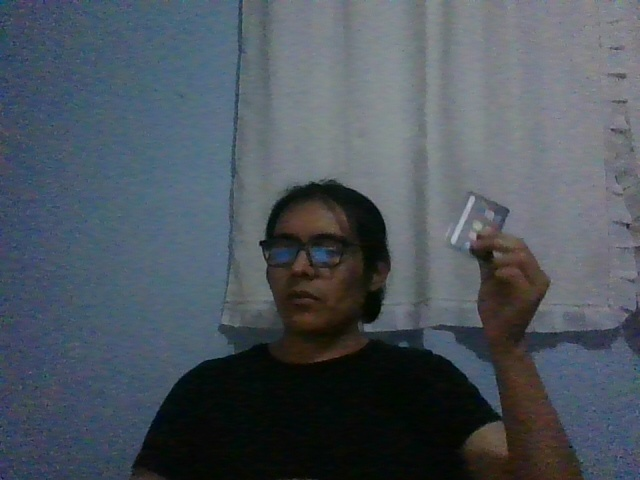tarjeta: (444, 191, 509, 261)
